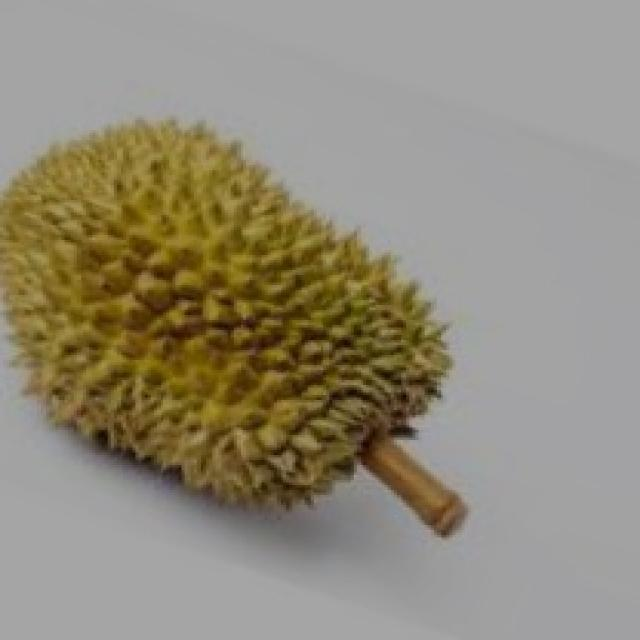fruit: (0, 130, 385, 565)
